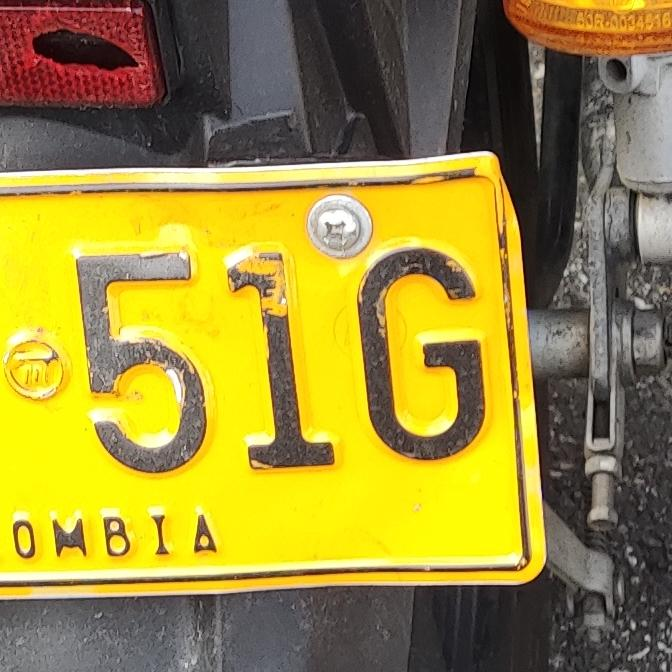plates: (0, 158, 543, 601)
